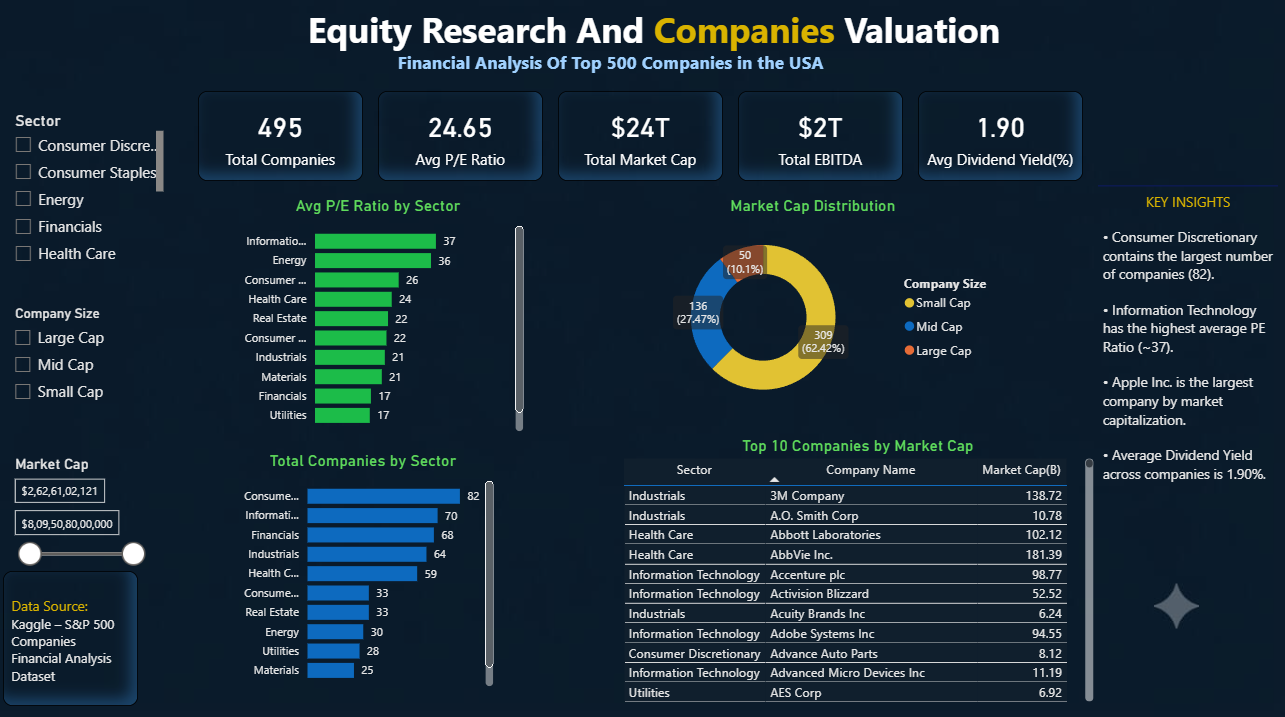

This screenshot's page, from the dashboard's own definition file:
{"tool":"powerbi","page":{"name":"Page 1","canvas":[1400,800],"ordinal":0},"visuals":[{"type":"textbox","box":[336,16,1056,112],"z":0},{"type":"textbox","box":[432,64,496,48],"z":1000},{"type":"card","fields":{"Values":["financial_analysis_cleaned.Total_Companies"]},"box":[224,112,176,96],"z":2000},{"type":"card","fields":{"Values":["financial_analysis_cleaned.Total_Market_Cap"]},"box":[608,112,176,96],"z":3000},{"type":"card","fields":{"Values":["financial_analysis_cleaned.Avg_PE_Ratio"]},"box":[416,112,176,96],"z":4000},{"type":"card","fields":{"Values":["financial_analysis_cleaned.Avg_Dividend_yield"]},"box":[992,112,176,96],"z":5000},{"type":"card","fields":{"Values":["financial_analysis_cleaned.Total_EBITDA"]},"box":[800,112,176,96],"z":6000},{"type":"tableEx","title":"Top 10 Companies by Market Cap","fields":{"Values":["financial_analysis_cleaned.Sector","financial_analysis_cleaned.Name","financial_analysis_cleaned.Market Cap(T)"]},"box":[672,480,512,288],"z":7000},{"type":"clusteredBarChart","fields":{"Category":["financial_analysis_cleaned.Sector"],"Y":["financial_analysis_cleaned.Total Companies"]},"box":[256,496,288,256],"z":8000},{"type":"clusteredBarChart","fields":{"Category":["financial_analysis_cleaned.Sector"],"Y":["financial_analysis_cleaned.Avg P/E Ratio"]},"box":[256,224,320,256],"z":9000},{"type":"donutChart","title":"Market Cap Distribution","fields":{"Y":["CountNonNull(financial_analysis_cleaned.Company Name)"],"Category":["financial_analysis_cleaned.Company Size"]},"box":[672,224,416,240],"z":10000},{"type":"textbox","box":[1184,208,192,560],"z":11000},{"type":"slicer","fields":{"Values":["financial_analysis_cleaned.Sector"]},"box":[16,128,176,176],"z":11001},{"type":"slicer","fields":{"Values":["financial_analysis_cleaned.Company Size"]},"box":[16,336,160,144],"z":11002},{"type":"slicer","fields":{"Values":["financial_analysis_cleaned.Market Cap"]},"box":[16,496,160,176],"z":11003},{"type":"textbox","box":[16,624,144,144],"z":11004}]}

Visuals, with their boxes in screenshot pixels (x1, y1, x2, y2), scaled from the page's 1400x800 canvas onto the 1285x717 screenshot:
textbox: left=308, top=14, right=1278, bottom=115
textbox: left=397, top=57, right=852, bottom=100
card - financial_analysis_cleaned.Total_Companies: left=206, top=100, right=367, bottom=186
card - financial_analysis_cleaned.Total_Market_Cap: left=558, top=100, right=720, bottom=186
card - financial_analysis_cleaned.Avg_PE_Ratio: left=382, top=100, right=543, bottom=186
card - financial_analysis_cleaned.Avg_Dividend_yield: left=911, top=100, right=1072, bottom=186
card - financial_analysis_cleaned.Total_EBITDA: left=734, top=100, right=896, bottom=186
"Top 10 Companies by Market Cap" tableEx: left=617, top=430, right=1087, bottom=688
clusteredBarChart - financial_analysis_cleaned.Sector x financial_analysis_cleaned.Total Companies: left=235, top=445, right=499, bottom=674
clusteredBarChart - financial_analysis_cleaned.Sector x financial_analysis_cleaned.Avg P/E Ratio: left=235, top=201, right=529, bottom=430
"Market Cap Distribution" donutChart: left=617, top=201, right=999, bottom=416
textbox: left=1087, top=186, right=1263, bottom=688
slicer - financial_analysis_cleaned.Sector: left=15, top=115, right=176, bottom=272
slicer - financial_analysis_cleaned.Company Size: left=15, top=301, right=162, bottom=430
slicer - financial_analysis_cleaned.Market Cap: left=15, top=445, right=162, bottom=602
textbox: left=15, top=559, right=147, bottom=688
